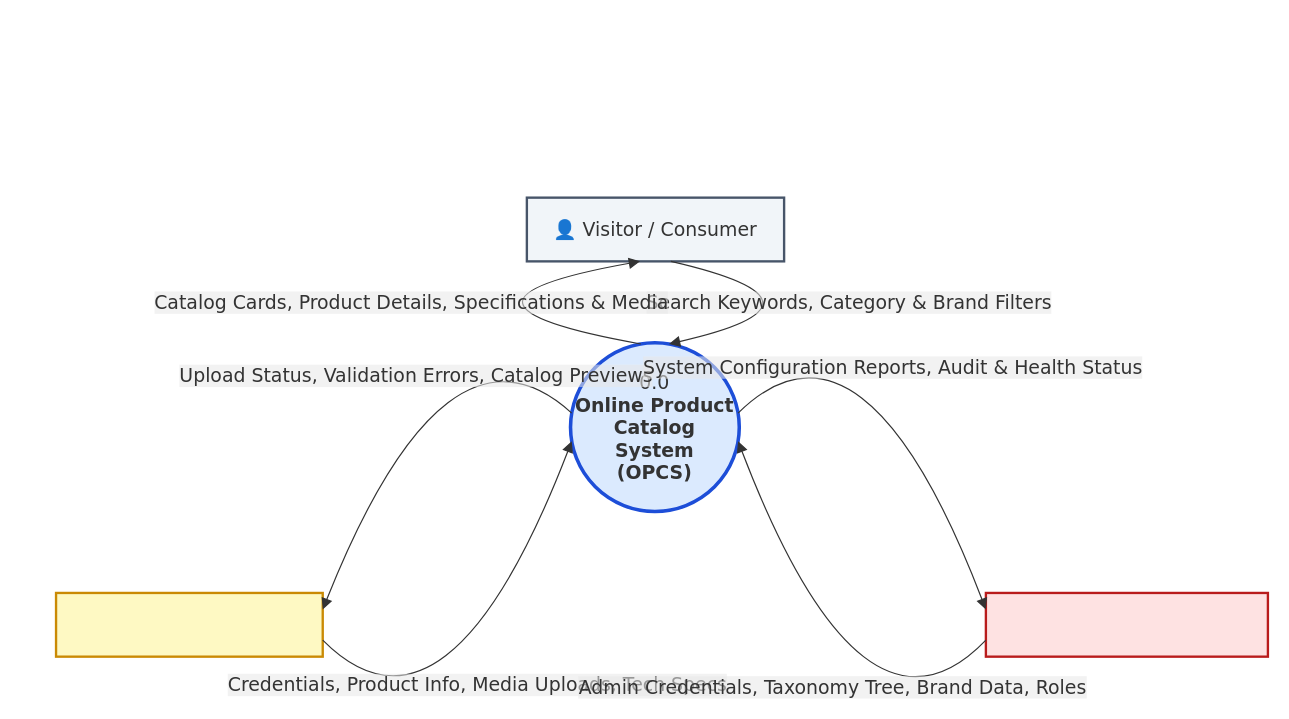
This 1289x719 diagram has some shape labels left out. The centre of each missing label's shape, as x and y in pixels:
👑 System Administrator: the point at 1126,624
👨💼 Catalog Manager: the point at 188,624
